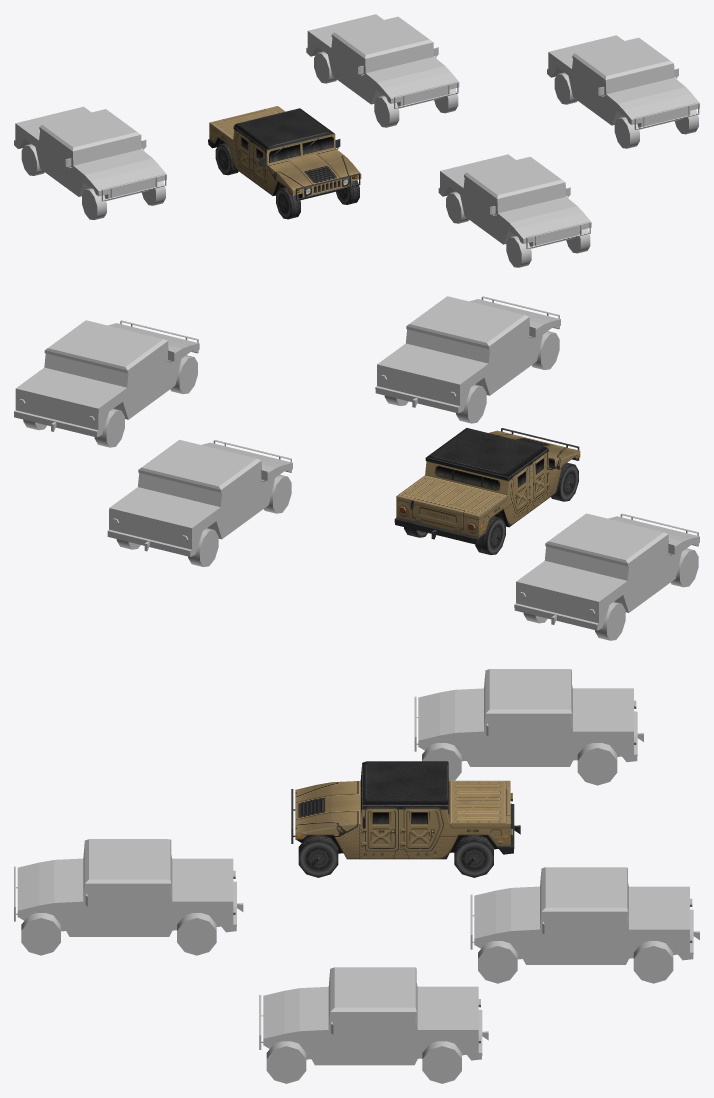
Rendered from hammer_1196.fbx.
3 renders of one model, top to bottom at view 1: azimuth 30°, elevation 25°; view 2: azimuth 150°, elevation 25°; view 3: azimuth 270°, elevation 25°, orthographic. The views are drawn at different scales.
Visible parts, largest first — view 1: hammer002, hammer001, hammer004, hammer003, hammer; view 2: hammer001, hammer, hammer004, hammer003, hammer002; view 3: hammer001, hammer004, hammer002, hammer003, hammer.
Boxes of the visible parts, x1,y1,x2,y2 form: hammer002: [306, 14, 459, 127]; hammer001: [208, 106, 361, 219]; hammer004: [547, 35, 699, 148]; hammer003: [438, 154, 591, 267]; hammer: [14, 106, 166, 219]; hammer001: [394, 428, 580, 554]; hammer: [514, 513, 699, 640]; hammer004: [14, 320, 199, 447]; hammer003: [375, 296, 560, 423]; hammer002: [107, 439, 292, 566]; hammer001: [291, 761, 520, 877]; hammer004: [259, 967, 488, 1083]; hammer002: [470, 867, 699, 983]; hammer003: [14, 839, 243, 955]; hammer: [414, 669, 643, 785].
Size of the model in its own units: 20.09 by 2 by 16.68.
